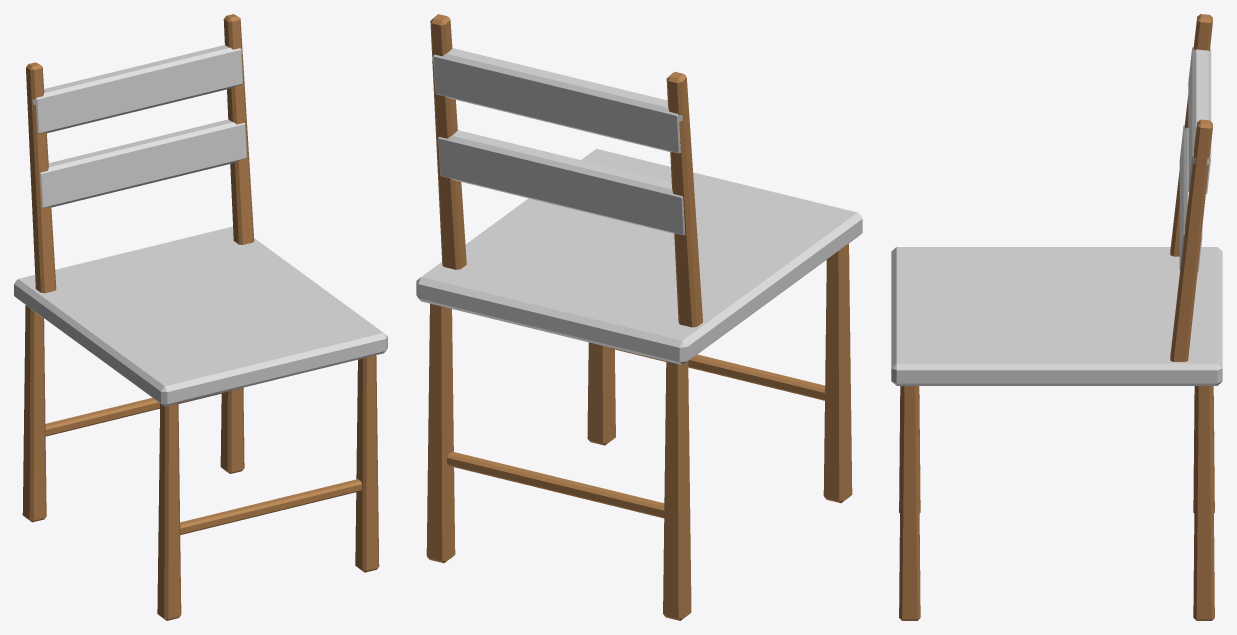
File: chair-dining.glb
The picture shows the model from 3 angles, left to right: view 1: azimuth 30°, elevation 25°; view 2: azimuth 150°, elevation 25°; view 3: azimuth 270°, elevation 25°; orthographic projection. The views are drawn at different scales.
Visible parts, largest first — view 1: chair-dining.tint, chair-dining.wood; view 2: chair-dining.tint, chair-dining.wood; view 3: chair-dining.tint, chair-dining.wood.
Boxes of the visible parts, x1=… form: chair-dining.tint: x1=14, y1=45, x2=387, y2=406; chair-dining.wood: x1=22, y1=14, x2=379, y2=620; chair-dining.tint: x1=416, y1=48, x2=862, y2=364; chair-dining.wood: x1=426, y1=14, x2=852, y2=620; chair-dining.tint: x1=891, y1=46, x2=1222, y2=385; chair-dining.wood: x1=899, y1=14, x2=1214, y2=620.
Bounding box in the file's own units: 0.45 × 0.86 × 0.52.
